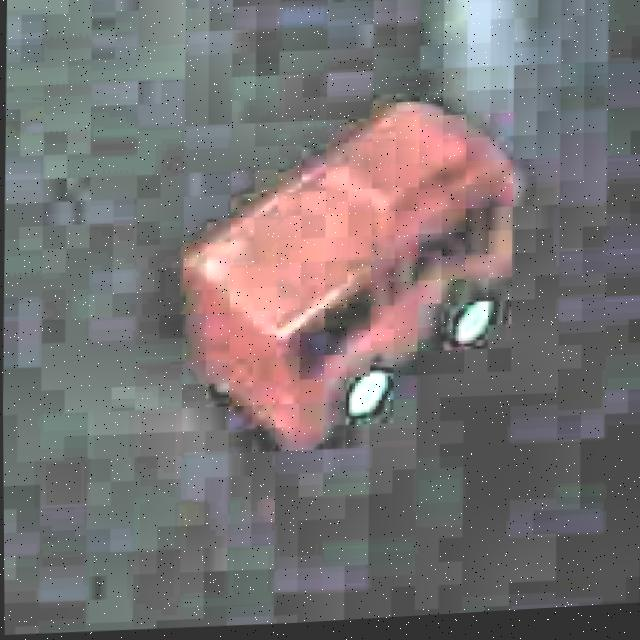bus: (159, 80, 532, 472)
